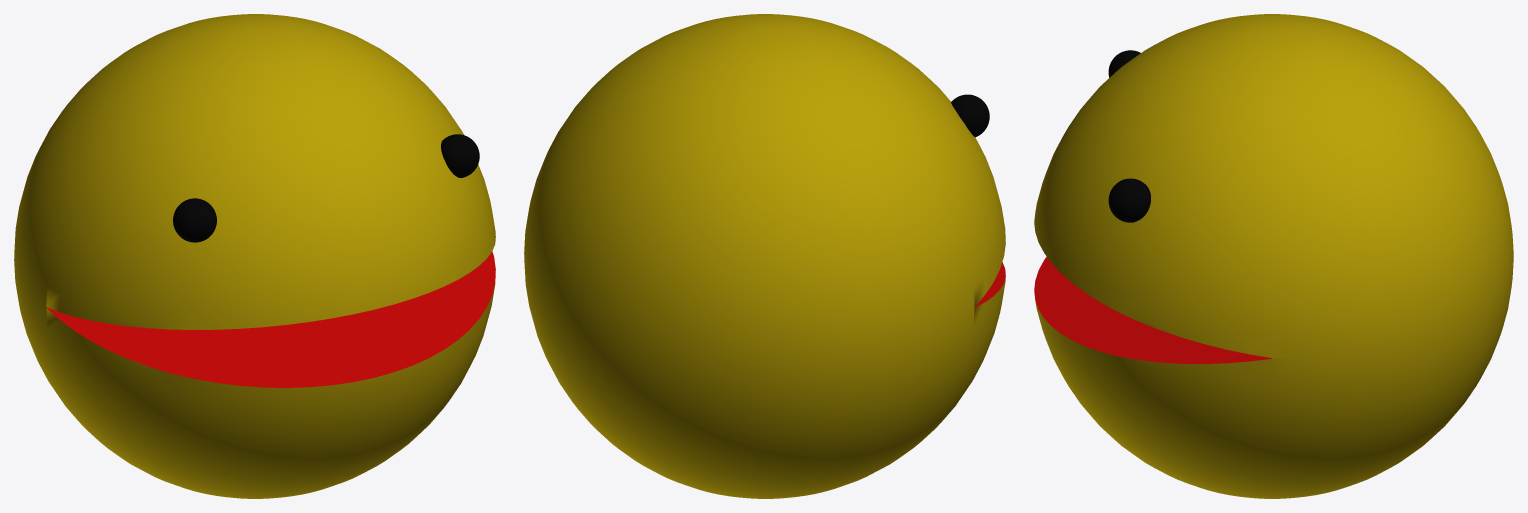
Rendered from pacman0009.obj.
The picture shows the model from 3 angles, left to right: view 1: azimuth 30°, elevation 25°; view 2: azimuth 150°, elevation 25°; view 3: azimuth 270°, elevation 25°; orthographic projection.
Visible parts, largest first — view 1: Body, Eyes; view 2: Body, Eyes; view 3: Body, Eyes.
Part boxes in pixels (<box>): Body: <box>14,14,495,498</box>; Eyes: <box>173,134,479,242</box>; Body: <box>524,14,1005,498</box>; Eyes: <box>951,94,989,137</box>; Body: <box>1034,14,1513,498</box>; Eyes: <box>1108,50,1150,222</box>.
Bounding box in the file's own units: 6.6 × 6.67 × 6.56.
